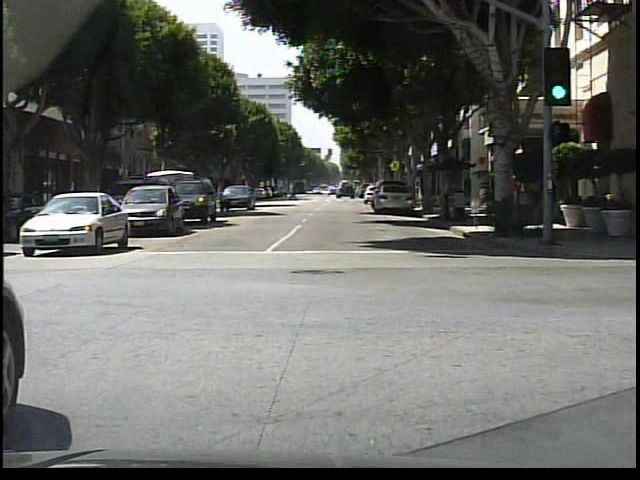person: (541, 161, 560, 239), (440, 172, 456, 220), (511, 170, 525, 223), (288, 184, 298, 201)
